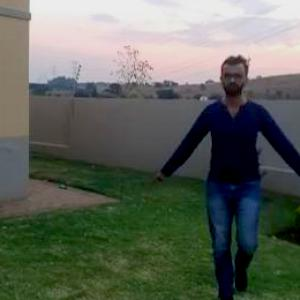land: (154, 46, 298, 299)
